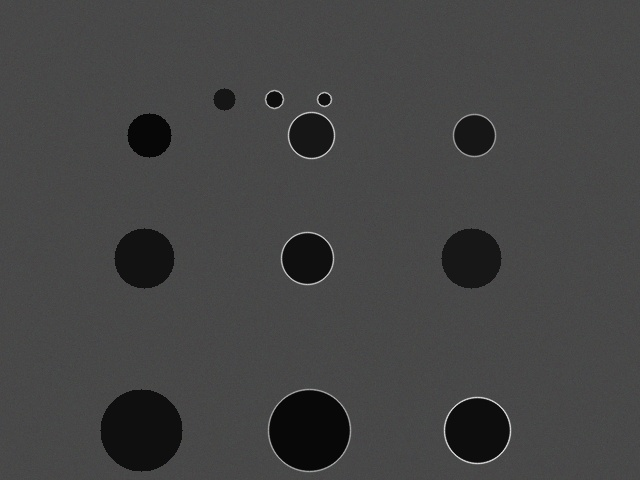hole: (100, 389, 182, 471), (268, 389, 350, 471), (444, 397, 510, 463), (114, 228, 174, 288), (441, 228, 501, 288), (281, 232, 333, 284), (288, 112, 334, 158), (127, 113, 171, 157), (453, 114, 495, 156), (213, 88, 235, 110), (265, 90, 283, 108), (317, 92, 331, 106)
